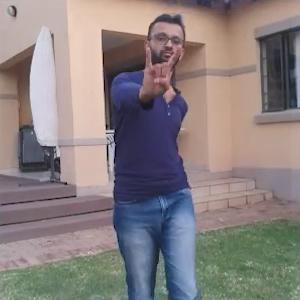takeoff-hand: (142, 42, 186, 105)
